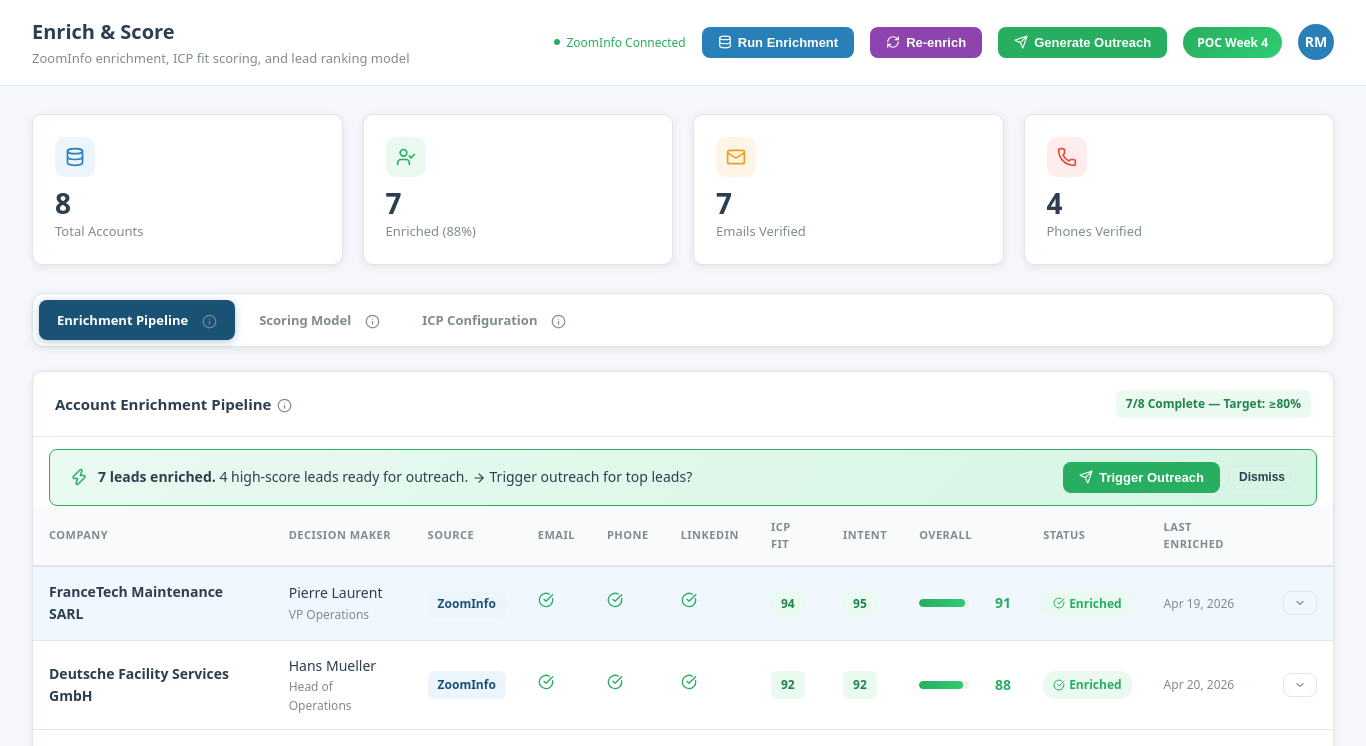
Test: Scoring — SC-01 to SC-03 › SC-03: Configure Scoring Model button in EnrichScore
The image size is (1366, 746).
What coordinates should you click on to do the following:
click the text "Scoring Model"
I would click on:
 (320, 320)
Its box is [259,311,380,329].
(page scrolled)
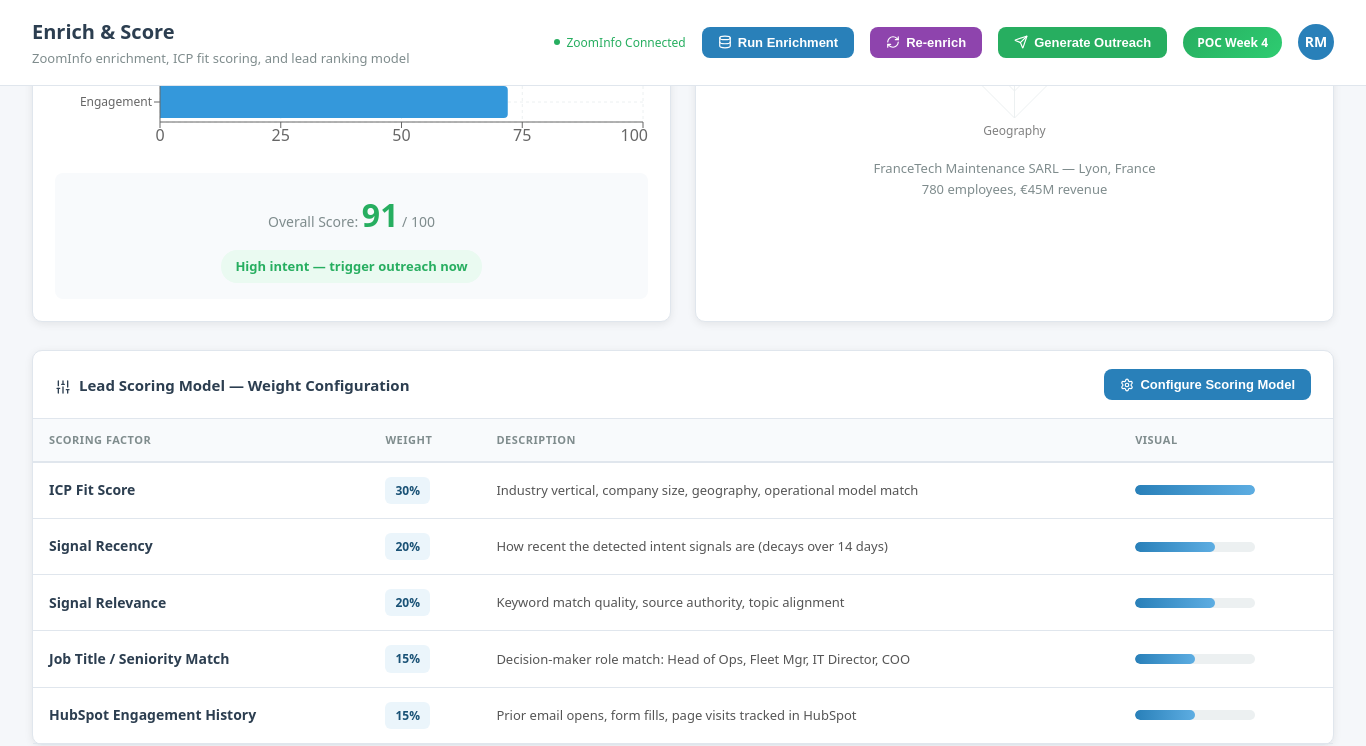
Result: the button "Configure Scoring Model" is shown at [1104,369,1311,400]
